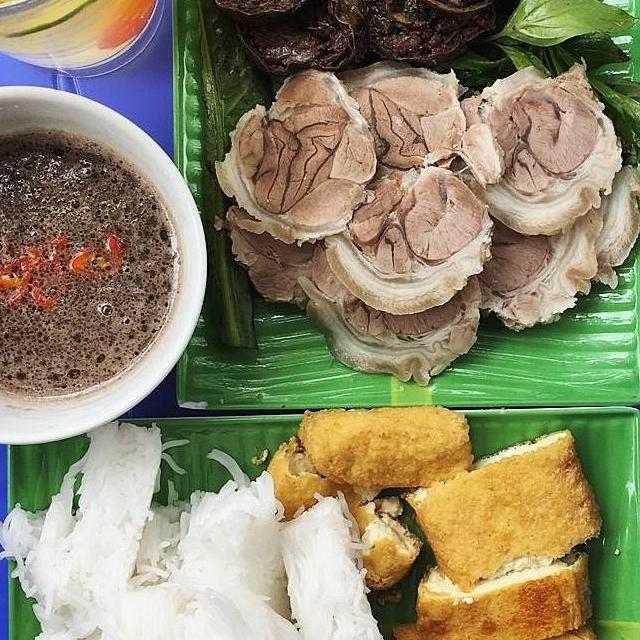bun: (0, 0, 265, 468)
bun dau: (17, 0, 640, 640)
dau hu: (154, 200, 276, 587), (16, 423, 137, 640), (145, 425, 254, 640), (112, 468, 188, 640)
doi sun: (462, 97, 636, 640)
thit heo: (276, 126, 487, 640)
